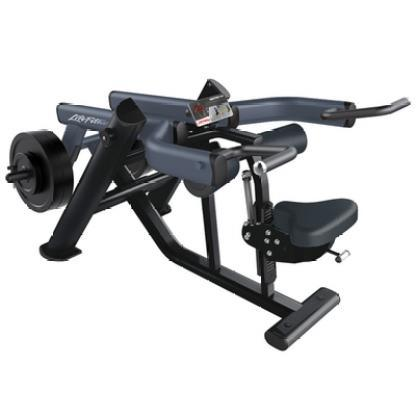seated dip machine: (8, 79, 411, 352)
